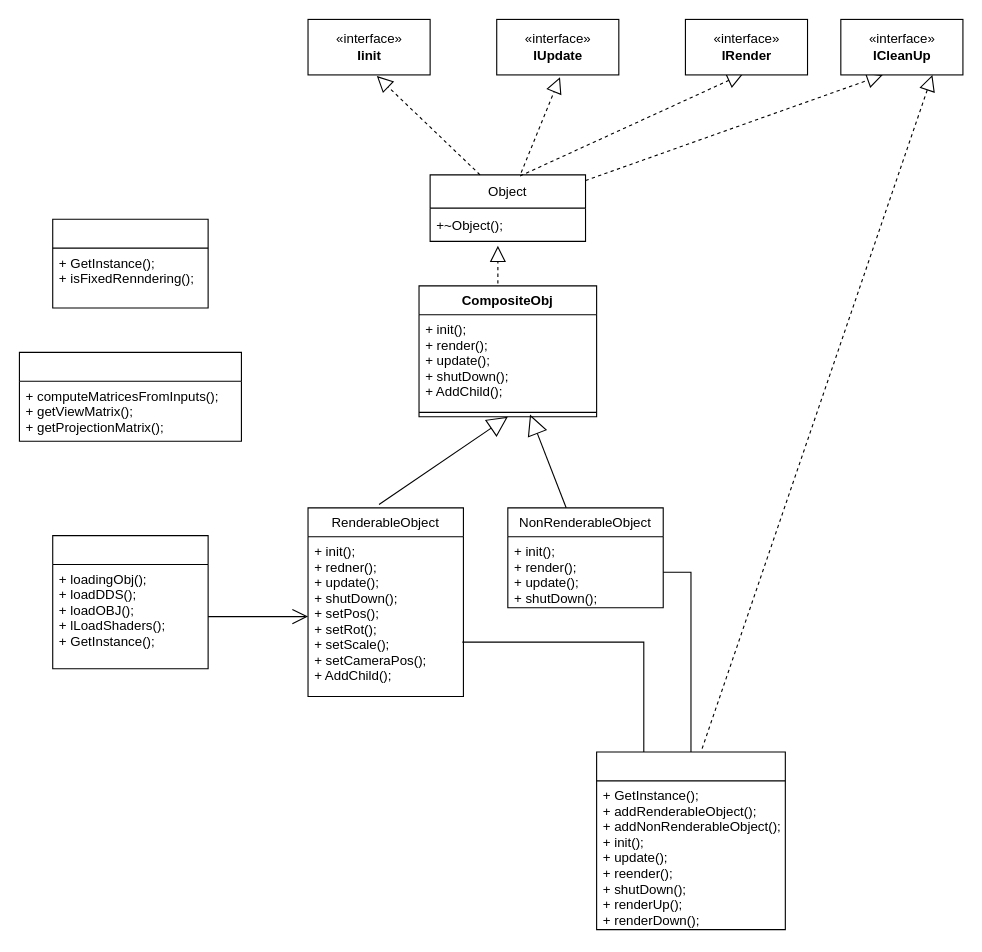
Some shapes in this 982 by 952 pixel diagram are drawn without their labels. Here are the shapes that lost their labels. From the top down, the box of each, then its label:
(52, 218, 208, 308): Time
(18, 351, 241, 441): KeyInput
(52, 534, 208, 669): FileManager
(596, 751, 785, 930): Renderer
